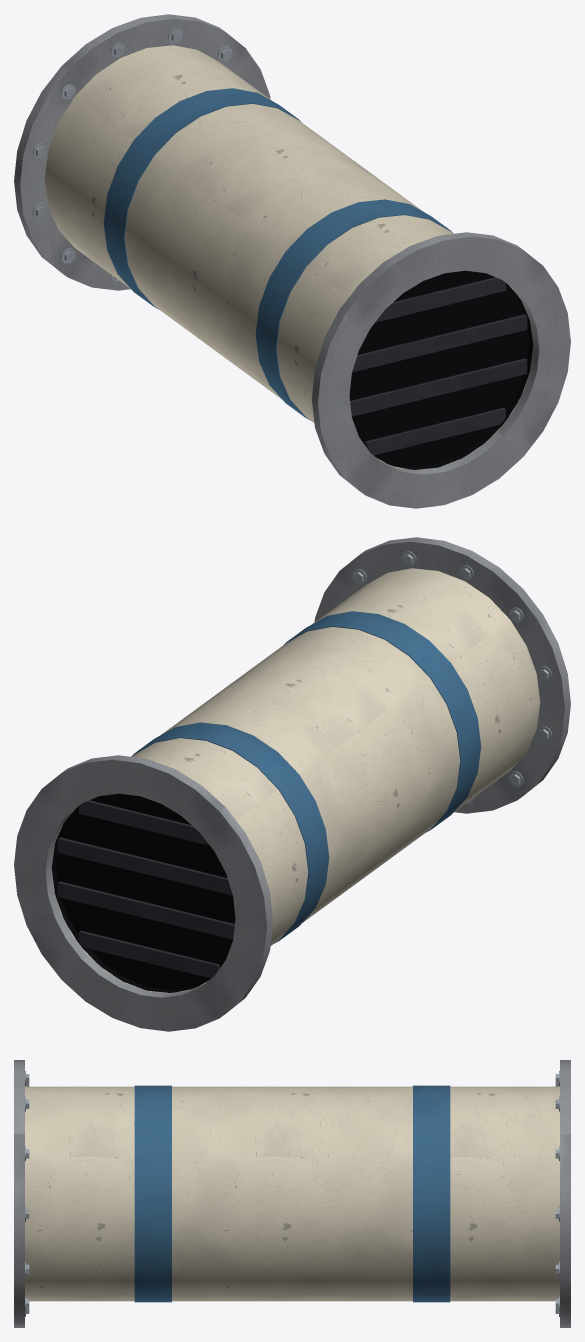
File: main_pipe_long.glb
3 views of the same model, one above another, from view 1: azimuth 30°, elevation 25°; view 2: azimuth 150°, elevation 25°; view 3: azimuth 270°, elevation 25° (orthographic). The views are drawn at different scales.
Parts seen in each view (by area): view 1: Body.005; view 2: Body.005; view 3: Body.005.
Part boxes in pixels (x1,y1,x2,y2): Body.005: [14, 14, 570, 508]; Body.005: [14, 537, 570, 1031]; Body.005: [14, 1060, 570, 1327].
Size of the model in its own units: 0.72 by 0.72 by 1.5.
Materials: 6 (5 with a texture image).
